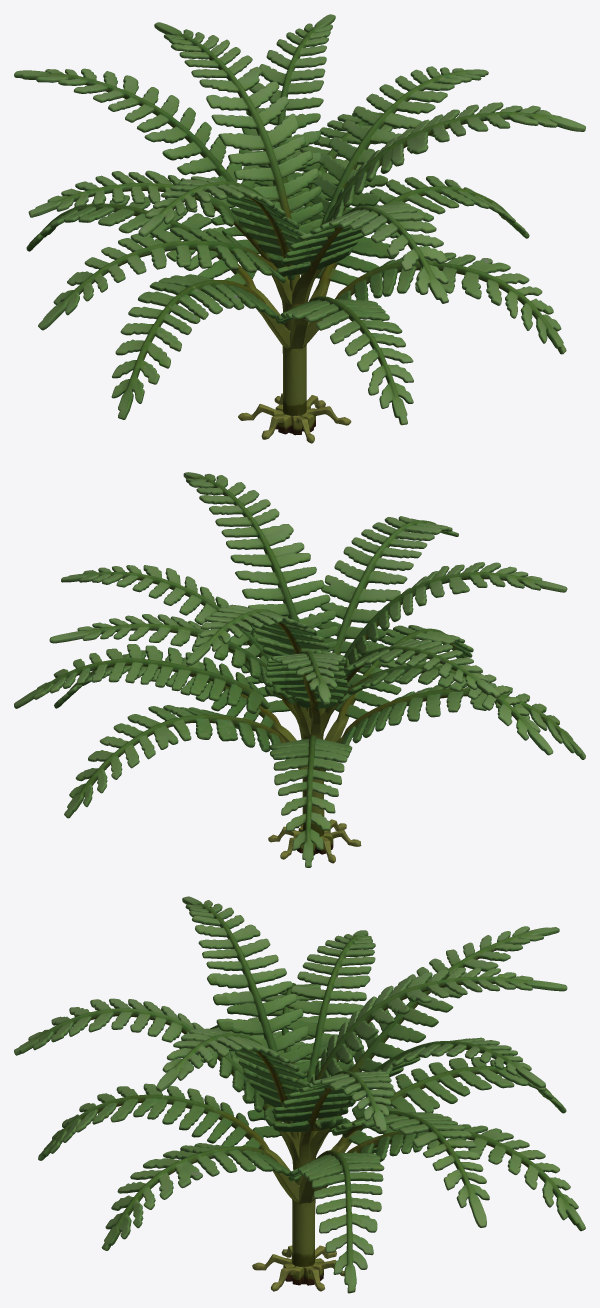
The model's file is fern.glb.
The picture shows the model from 3 angles, top to bottom: view 1: azimuth 30°, elevation 25°; view 2: azimuth 150°, elevation 25°; view 3: azimuth 270°, elevation 25°; orthographic projection. The views are drawn at different scales.
Visible parts, largest first — view 1: Mesh::generatedModels/Wl0AO6RCLJRa60DGuCXy.gltf; view 2: Mesh::generatedModels/Wl0AO6RCLJRa60DGuCXy.gltf; view 3: Mesh::generatedModels/Wl0AO6RCLJRa60DGuCXy.gltf.
Part boxes in pixels (bbox=[...]): Mesh::generatedModels/Wl0AO6RCLJRa60DGuCXy.gltf: bbox=[14, 14, 585, 443]; Mesh::generatedModels/Wl0AO6RCLJRa60DGuCXy.gltf: bbox=[14, 472, 585, 867]; Mesh::generatedModels/Wl0AO6RCLJRa60DGuCXy.gltf: bbox=[14, 896, 585, 1293].
Size of the model in its own units: 1 by 0.5952 by 0.9997.
1 material, 1 textured.
